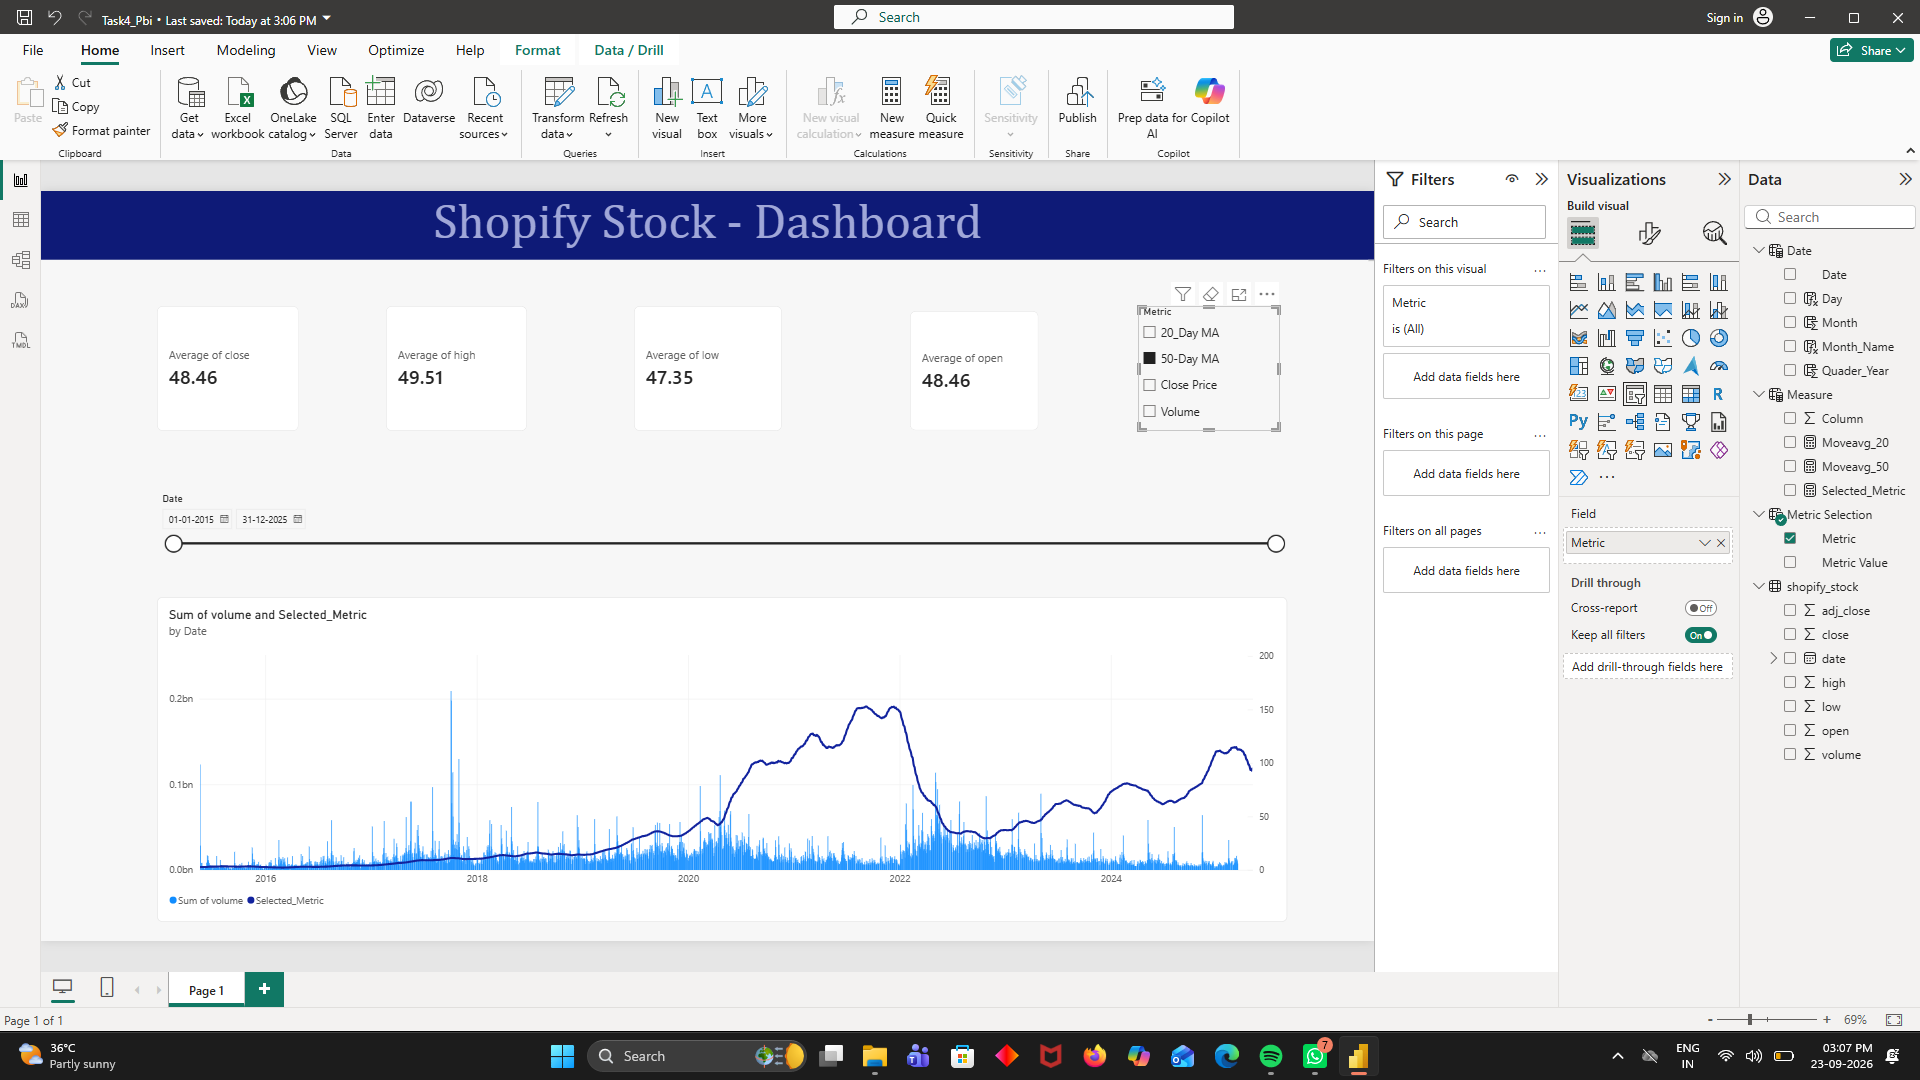

Layout of this report page (visuals, bound fields, positions):
{"tool":"powerbi","page":{"name":"Page 1","canvas":[1920,1080],"ordinal":0},"visuals":[{"type":"textbox","title":"Shopify Stock - Dashboard","box":[0,0,1920,100.7],"z":0},{"type":"slicer","fields":{"Values":["Metric Selection.Metric"]},"box":[1580.1,165.6,204.5,180],"z":1000},{"type":"cardVisual","fields":{"Data":["Avg(shopify_stock.close)"]},"box":[167.1,165.6,204.5,180],"z":2000},{"type":"cardVisual","fields":{"Data":["Avg(shopify_stock.high)"]},"box":[496.9,165.6,203.1,180],"z":3000},{"type":"cardVisual","fields":{"Data":["Avg(shopify_stock.low)"]},"box":[854.1,165.6,213.2,180],"z":4000},{"type":"cardVisual","fields":{"Data":["Avg(shopify_stock.open)"]},"box":[1251.7,172.8,185.8,172.8],"z":5000},{"type":"slicer","fields":{"Values":["Date.Date"]},"box":[167.1,435,1627.6,149.8],"z":6000},{"type":"lineClusteredColumnComboChart","fields":{"Category":["Date.Date"],"Y":["Sum(shopify_stock.volume)"],"Y2":["Measure.Selected_Metric"]},"box":[167.1,584.8,1627.6,468.1],"z":6001}]}

Visuals, with their boxes on the page's 1920x1080 design canvas (x1, y1, x2, y2). These are canvas units, not pixel positions in the 1920x1080 screenshot, which may show the page scaled, cropped or inside an application window:
"Shopify Stock - Dashboard" textbox: [0, 0, 1920, 101]
slicer - Metric Selection.Metric: [1580, 166, 1785, 346]
cardVisual - Avg(shopify_stock.close): [167, 166, 372, 346]
cardVisual - Avg(shopify_stock.high): [497, 166, 700, 346]
cardVisual - Avg(shopify_stock.low): [854, 166, 1067, 346]
cardVisual - Avg(shopify_stock.open): [1252, 173, 1438, 346]
slicer - Date.Date: [167, 435, 1795, 585]
lineClusteredColumnComboChart - Date.Date x Sum(shopify_stock.volume): [167, 585, 1795, 1053]
